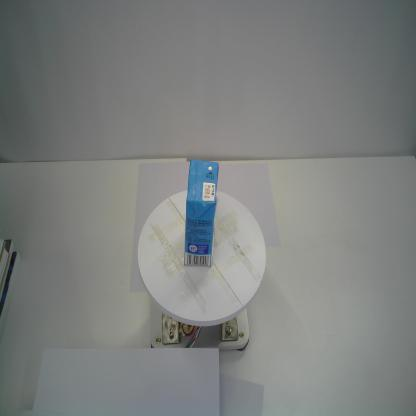Milk: (183, 157, 220, 268)
